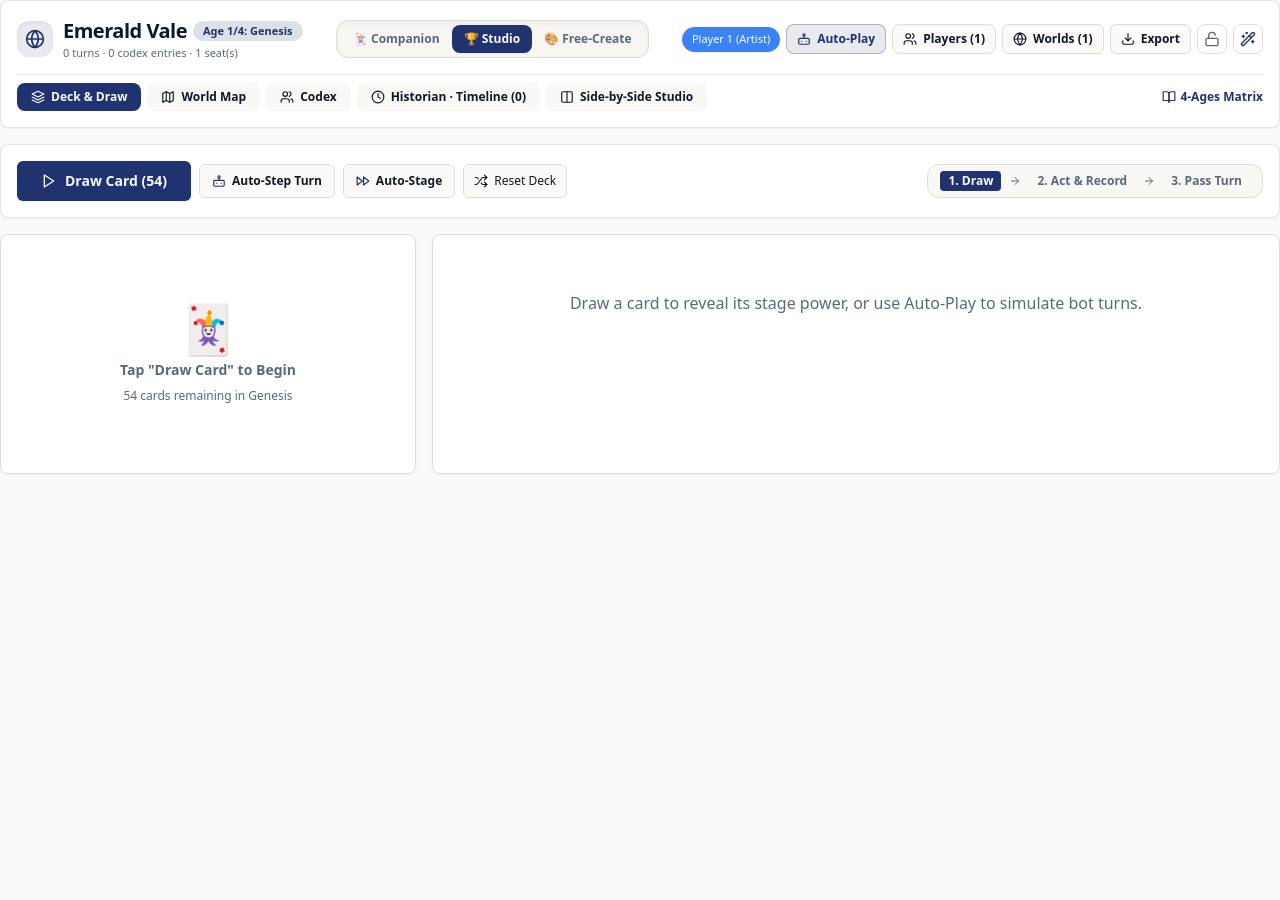
Test: Play Studio & Rules Integration › supports 3.1 Companion Mode optional toggles and 3.3 Freeform Mode
The width and height of the screenshot is (1280, 900).
Switch to 3.1 Companion Mode
Click the button "🃏 Companion". click: x=396, y=39
box: x1=341 y1=25 x2=452 y2=53
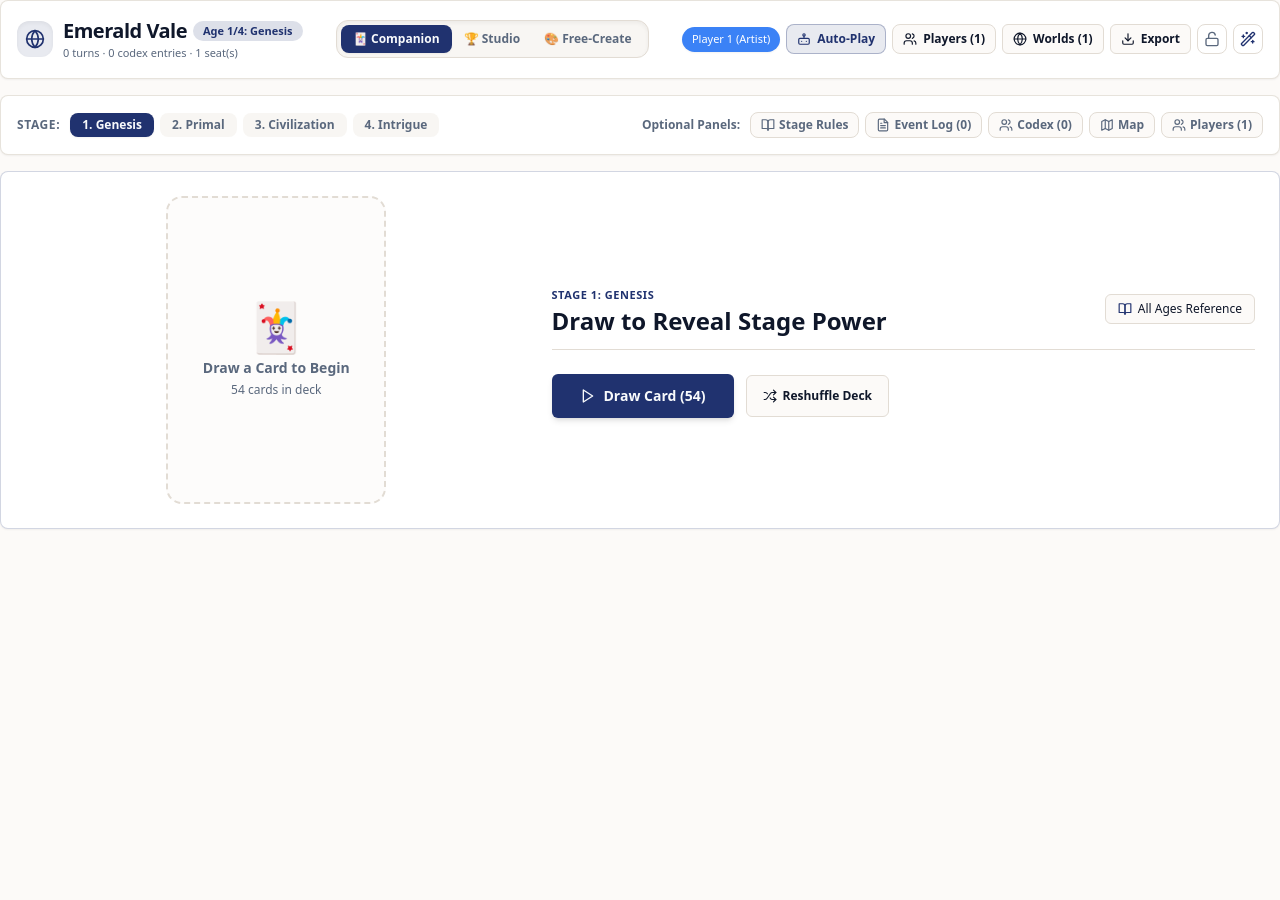
Result: the text "Optional Panels:" is shown at x1=642 y1=116 x2=740 y2=132
Toggle Stage Rules optional panel in Companion mode
Click the button "Stage Rules". click: x=805, y=124
box: x1=750 y1=112 x2=860 y2=138
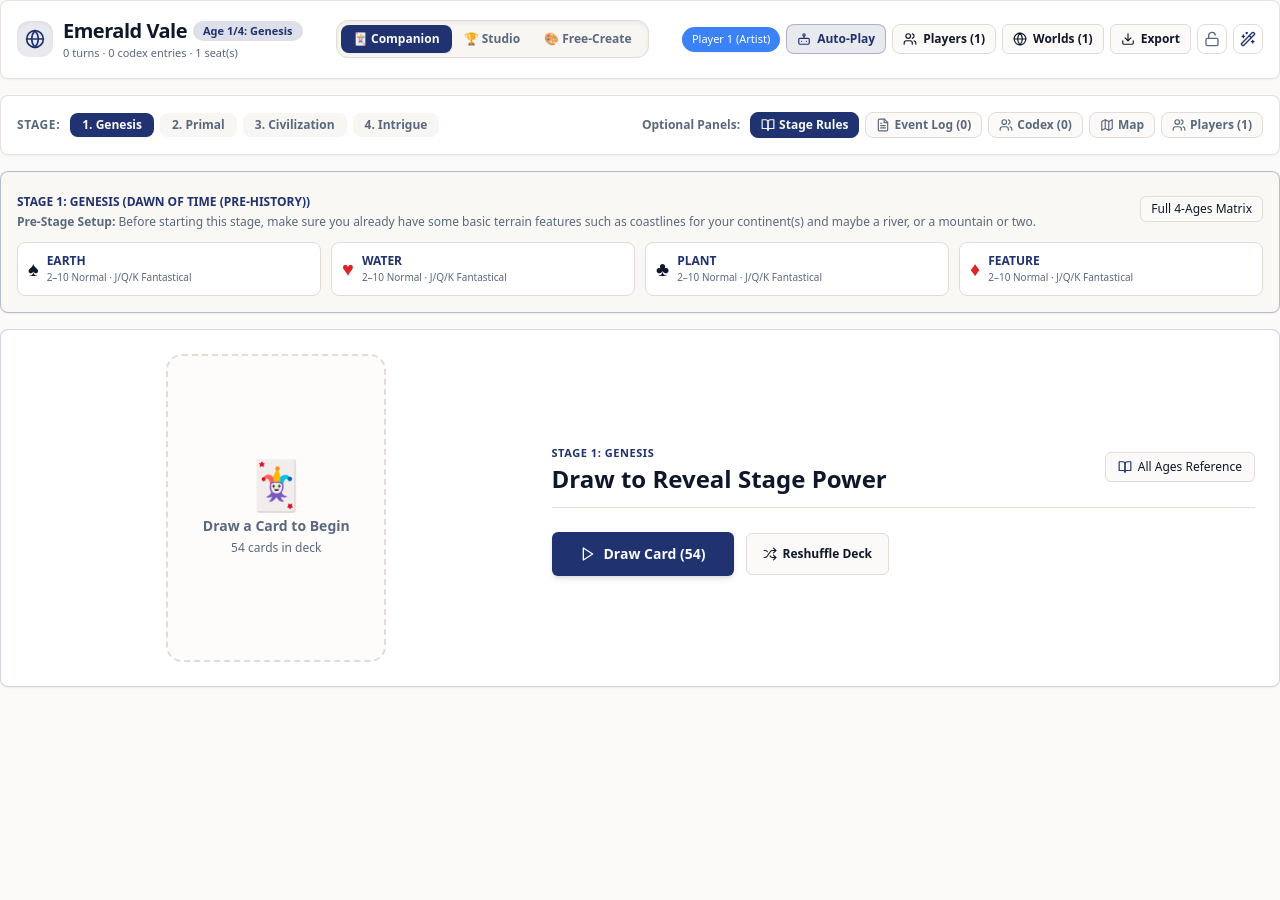
Result: the button "Full 4-Ages Matrix" is shown at x1=1140 y1=196 x2=1263 y2=222
Switch to 3.3 Freeform Mode
Click the button "🎨 Free-Create". click: x=588, y=39
box: x1=532 y1=25 x2=644 y2=53
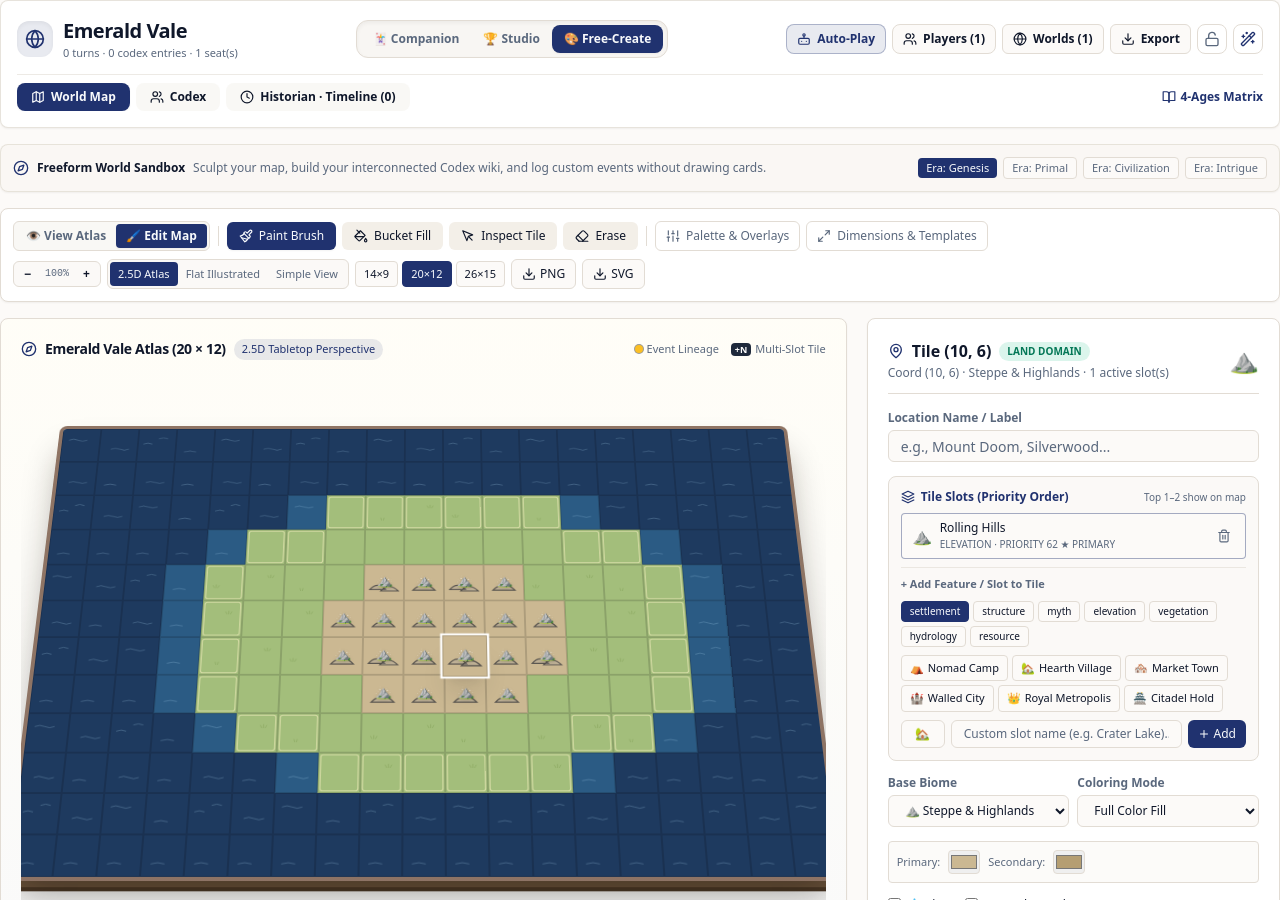
Result: the text "Freeform World Sandbox" is shown at x1=37 y1=160 x2=185 y2=176
Result: the button "Draw Card" is gone
